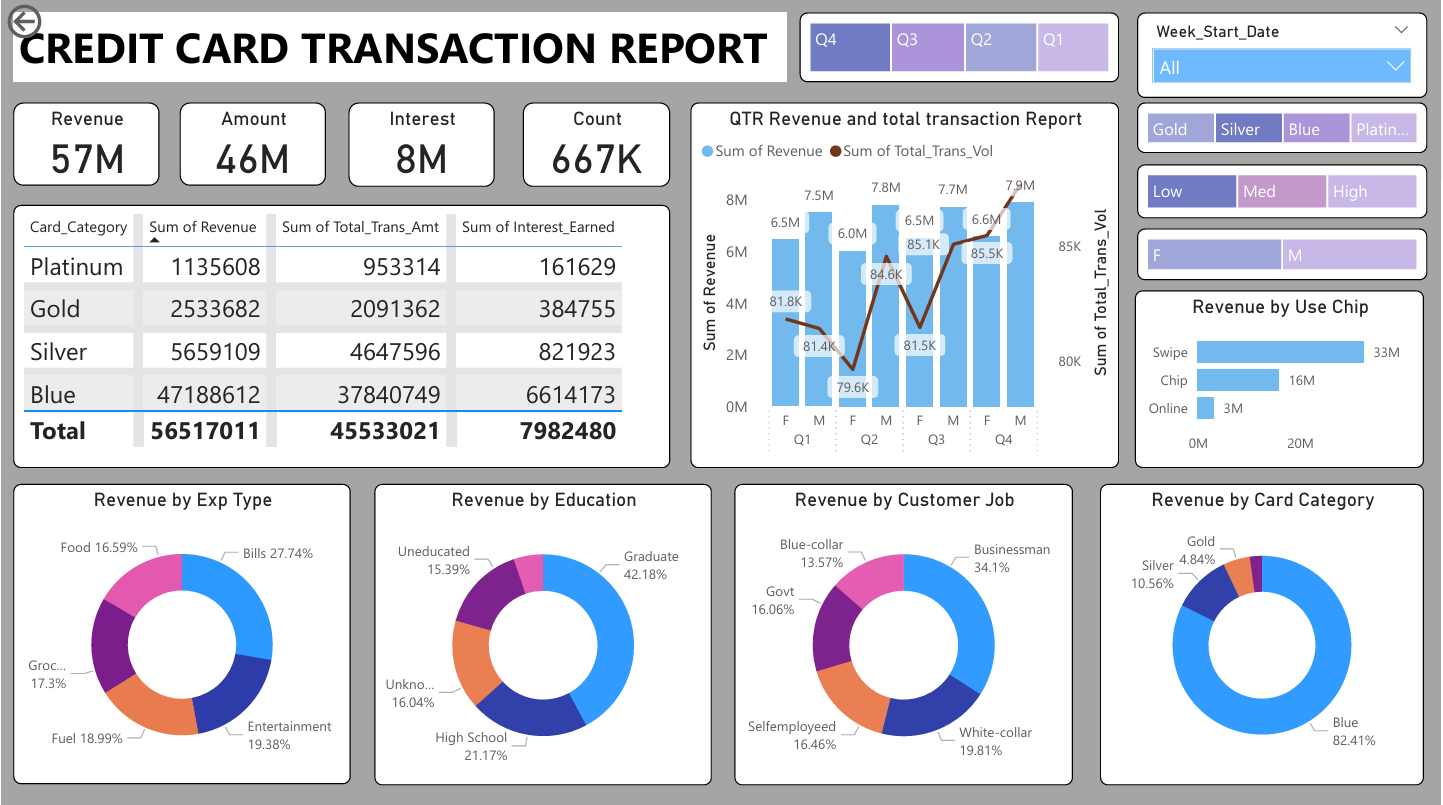

The dashboard page shown, as its layout file describes it:
{"tool":"powerbi","page":{"name":"Credit_Card_transaction","canvas":[1280,720],"ordinal":1},"visuals":[{"type":"textbox","box":[9.6,12.3,688.9,61.7],"z":0},{"type":"lineStackedColumnComboChart","title":"QTR Revenue and total transaction Report","fields":{"Category":["credit_card.Qtr","customer.Gender"],"Y":["Sum(credit_card.Revenue)"],"Y2":["Sum(credit_card.Total_Trans_Vol)"]},"box":[611.7,91.7,381.2,325.7],"z":1000},{"type":"donutChart","title":"Revenue by Exp Type","fields":{"Category":["credit_card.Exp Type"],"Y":["Sum(credit_card.Revenue)"]},"box":[9.6,430.9,300,267],"z":2000},{"type":"donutChart","title":"Revenue by Education","fields":{"Category":["customer.Education_Level"],"Y":["Sum(credit_card.Revenue)"]},"box":[330.6,430.7,300.4,267.8],"z":3000},{"type":"donutChart","title":"Revenue by Customer Job","fields":{"Category":["customer.Customer_Job"],"Y":["Sum(credit_card.Revenue)"]},"box":[651.5,430.7,300.4,267.8],"z":4000},{"type":"donutChart","title":"Revenue by Card Category","fields":{"Category":["credit_card.Card_Category"],"Y":["Sum(credit_card.Revenue)"]},"box":[976,430.7,288.3,267.8],"z":5000},{"type":"clusteredBarChart","title":"Revenue by Use Chip","fields":{"Category":["credit_card.Use Chip"],"Y":["Sum(credit_card.Revenue)"]},"box":[1007.2,259.3,256.6,157.8],"z":6000},{"type":"tableEx","fields":{"Values":["credit_card.Card_Category","Sum(credit_card.Revenue)","Sum(credit_card.Total_Trans_Amt)","Sum(credit_card.Interest_Earned)"]},"box":[9.7,183.4,583.9,234],"z":7000},{"type":"actionButton","box":[0,0,100,40],"z":8000},{"type":"card","title":"Revenue","fields":{"Values":["Sum(credit_card.Revenue)"]},"box":[9.7,91.7,130.3,74.8],"z":9000},{"type":"card","title":"Amount","fields":{"Values":["Sum(credit_card.Total_Trans_Amt)"]},"box":[158,91.7,130.3,74.8],"z":10000},{"type":"card","title":"Interest","fields":{"Values":["Sum(credit_card.Interest_Earned)"]},"box":[307.6,91.7,130.3,75],"z":11000},{"type":"card","title":"Count ","fields":{"Values":["Sum(credit_card.Total_Trans_Vol)"]},"box":[463.3,91.7,130.3,75],"z":12000},{"type":"slicer","fields":{"Values":["credit_card.Week_Start_Date"]},"box":[1008.6,12.3,258,75.5],"z":13000},{"type":"treemap","fields":{"Group":["credit_card.Qtr"],"Values":["Avg(credit_card.Client_Num)"]},"box":[709.4,12.1,283.5,61.5],"z":14000},{"type":"treemap","fields":{"Values":["Avg(credit_card.Client_Num)"],"Group":["credit_card.Card_Category"]},"box":[1008.6,91.9,258,45.3],"z":15000},{"type":"treemap","fields":{"Values":["Avg(credit_card.Client_Num)"],"Group":["customer.Income Group"]},"box":[1008.6,146.8,258,48],"z":16000},{"type":"treemap","fields":{"Values":["Avg(credit_card.Client_Num)"],"Group":["customer.Gender"]},"box":[1008.6,204.5,258,45.3],"z":17000}]}

Visuals, with their boxes in screenshot pixels (x1, y1, x2, y2), scaled from the page's 1280x720 canvas onto the 1443x805 screenshot:
textbox: [11, 14, 787, 83]
"QTR Revenue and total transaction Report" lineStackedColumnComboChart: [690, 103, 1119, 467]
"Revenue by Exp Type" donutChart: [11, 482, 349, 780]
"Revenue by Education" donutChart: [373, 482, 711, 781]
"Revenue by Customer Job" donutChart: [734, 482, 1073, 781]
"Revenue by Card Category" donutChart: [1100, 482, 1425, 781]
"Revenue by Use Chip" clusteredBarChart: [1135, 290, 1425, 466]
tableEx - credit_card.Card_Category x Sum(credit_card.Revenue): [11, 205, 669, 467]
actionButton: [0, 0, 113, 45]
"Revenue" card: [11, 103, 158, 186]
"Amount" card: [178, 103, 325, 186]
"Interest" card: [347, 103, 494, 186]
"Count " card: [522, 103, 669, 186]
slicer - credit_card.Week_Start_Date: [1137, 14, 1428, 98]
treemap - credit_card.Qtr x Avg(credit_card.Client_Num): [800, 14, 1119, 82]
treemap - Avg(credit_card.Client_Num) x credit_card.Card_Category: [1137, 103, 1428, 153]
treemap - Avg(credit_card.Client_Num) x customer.Income Group: [1137, 164, 1428, 218]
treemap - Avg(credit_card.Client_Num) x customer.Gender: [1137, 229, 1428, 279]
